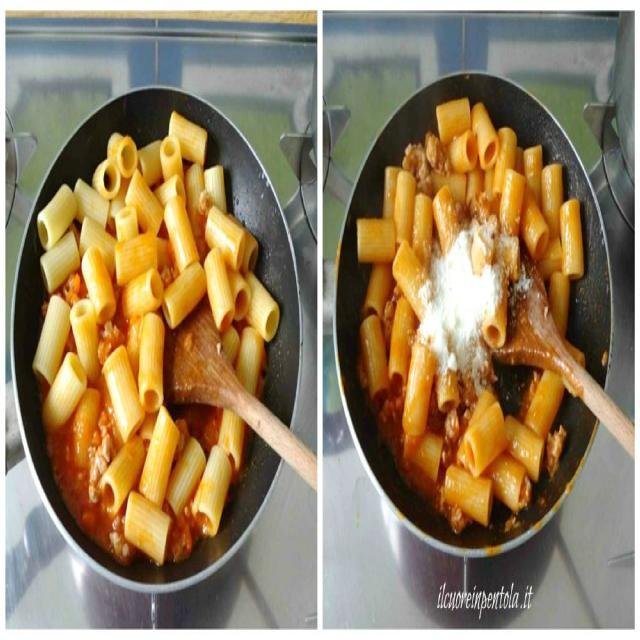Pasta al ragu: (13, 65, 305, 569), (336, 63, 613, 527)
